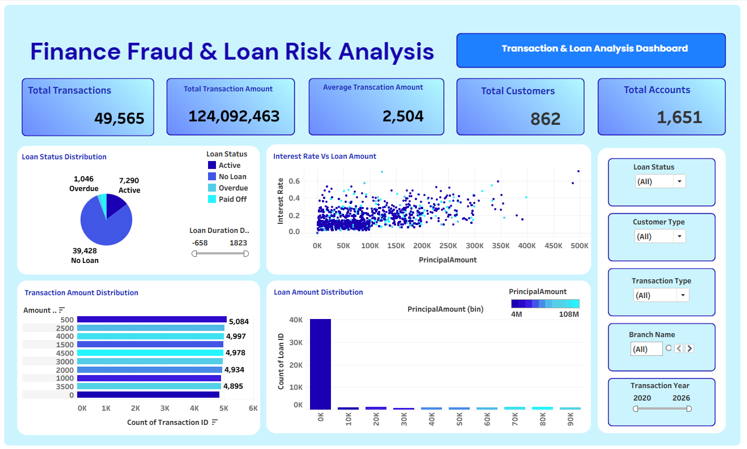

The dashboard page shown, as its layout file describes it:
{"tool":"tableau","page":{"name":"Transaction & Loan Analysis Dashboard","canvas":[1000,1000],"units":"permille","ordinal":2},"visuals":[{"type":"image","param":"Image/Screenshot 2026-03-12 175131.png","box":[44.4,61.2,560.7,105]},{"type":"image","param":"Image/Screenshot 2026-03-12 174615.png","box":[667.4,86.2,247.4,50]},{"type":"worksheet","title":"KPI - Average Transcation Amount","mark":"Automatic","box":[433.3,173.8,137.8,117.5]},{"type":"worksheet","title":"KPI-Total Accounts","mark":"Automatic","box":[826.7,176.2,108.9,111.2]},{"type":"worksheet","title":"KPI-Total Transcations","mark":"Automatic","box":[47.4,177.5,159.3,113.8]},{"type":"worksheet","title":"KPI-Total Transaction Amount","mark":"Automatic","box":[251.1,177.5,131.8,110]},{"type":"worksheet","title":"KPI-Total Customers","mark":"Automatic","box":[640,178.8,110.4,112.5]},{"type":"legend","title":"Loan Status Distribution","param":"[federated.1gcsz7r1oho24k1cehus30sbix2w].[none:LoanStatus:nk]","box":[283.7,326.2,65.2,137.5]},{"type":"worksheet","title":"Interest Rate Vs Loan Amount","mark":"Automatic","rows":["InterestRate"],"cols":["PrincipalAmount"],"box":[368.2,326.2,420,265]},{"type":"worksheet","title":"Loan Status Distribution","mark":"Pie","box":[39.3,327.5,227.4,270]},{"type":"filter","title":"Interest Rate Vs Loan Amount","param":"[federated.1gcsz7r1oho24k1cehus30sbix2w].[none:LoanStatus:nk]","box":[842.2,355,71.1,93.8]},{"type":"filter","title":"Interest Rate Vs Loan Amount","param":"[federated.1gcsz7r1oho24k1cehus30sbix2w].[none:CustomerType:nk]","box":[841.5,476.2,71.9,93.8]},{"type":"filter","title":"Loan Status Distribution","param":"[federated.1gcsz7r1oho24k1cehus30sbix2w].[none:LoanDurationDays:qk]","box":[261.5,495,80.7,103.8]},{"type":"filter","title":"Interest Rate Vs Loan Amount","param":"[federated.1gcsz7r1oho24k1cehus30sbix2w].[none:TransactionType:nk]","box":[840,606.2,77.8,75]},{"type":"worksheet","title":"Loan Amount Distribution","mark":"Automatic","rows":["LoanID"],"cols":["PrincipalAmount (bin)"],"box":[368.9,626.2,408.9,326.2]},{"type":"worksheet","title":"Transcation Amount Distribution","mark":"Automatic","rows":["Amount (bin)"],"cols":["TransactionID"],"box":[43,627.5,309.6,322.5]},{"type":"legend","title":"Loan Amount Distribution","param":"[federated.1gcsz7r1oho24k1cehus30sbix2w].[sum:PrincipalAmount:qk]","box":[679.3,630,95.6,95]},{"type":"filter","title":"Interest Rate Vs Loan Amount","param":"[federated.1gcsz7r1oho24k1cehus30sbix2w].[none:BranchName:nk]","box":[836.3,725,88.2,88.8]},{"type":"filter","title":"Interest Rate Vs Loan Amount","param":"[federated.1gcsz7r1oho24k1cehus30sbix2w].[none:TransactionYear:qk]","box":[838.5,837.5,83,100]}]}

Visuals, with their boxes on the dashboard's canvas, which has no fixed pixel size, in thousandths of its width and height (x1, y1, x2, y2). These are canvas units, not pixel positions in the 747x449 screenshot, which may show the page scaled, cropped or inside an application window:
image: BBox(44, 61, 605, 166)
image: BBox(667, 86, 915, 136)
"KPI - Average Transcation Amount" worksheet: BBox(433, 174, 571, 291)
"KPI-Total Accounts" worksheet: BBox(827, 176, 936, 287)
"KPI-Total Transcations" worksheet: BBox(47, 178, 207, 291)
"KPI-Total Transaction Amount" worksheet: BBox(251, 178, 383, 288)
"KPI-Total Customers" worksheet: BBox(640, 179, 750, 291)
"Loan Status Distribution" legend: BBox(284, 326, 349, 464)
"Interest Rate Vs Loan Amount" worksheet: BBox(368, 326, 788, 591)
"Loan Status Distribution" worksheet (Pie marks): BBox(39, 328, 267, 598)
"Interest Rate Vs Loan Amount" filter: BBox(842, 355, 913, 449)
"Interest Rate Vs Loan Amount" filter: BBox(842, 476, 913, 570)
"Loan Status Distribution" filter: BBox(262, 495, 342, 599)
"Interest Rate Vs Loan Amount" filter: BBox(840, 606, 918, 681)
"Loan Amount Distribution" worksheet: BBox(369, 626, 778, 952)
"Transcation Amount Distribution" worksheet: BBox(43, 628, 353, 950)
"Loan Amount Distribution" legend: BBox(679, 630, 775, 725)
"Interest Rate Vs Loan Amount" filter: BBox(836, 725, 924, 814)
"Interest Rate Vs Loan Amount" filter: BBox(838, 838, 922, 938)
